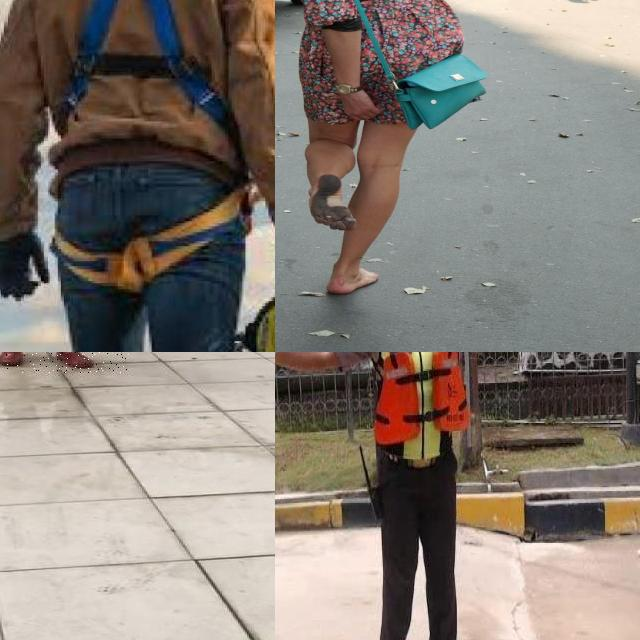Barefoots: (308, 174, 356, 231), (326, 268, 379, 294)
Harness: (48, 0, 251, 288)
boots: (54, 352, 100, 367), (0, 352, 30, 365)
person: (275, 352, 615, 640)
vest: (369, 352, 472, 448)
